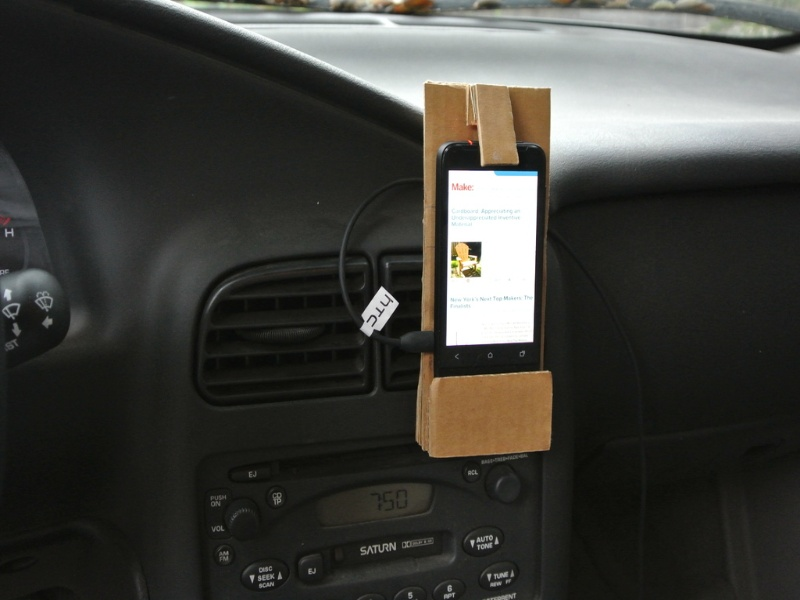cellphone: (434, 136, 546, 403)
